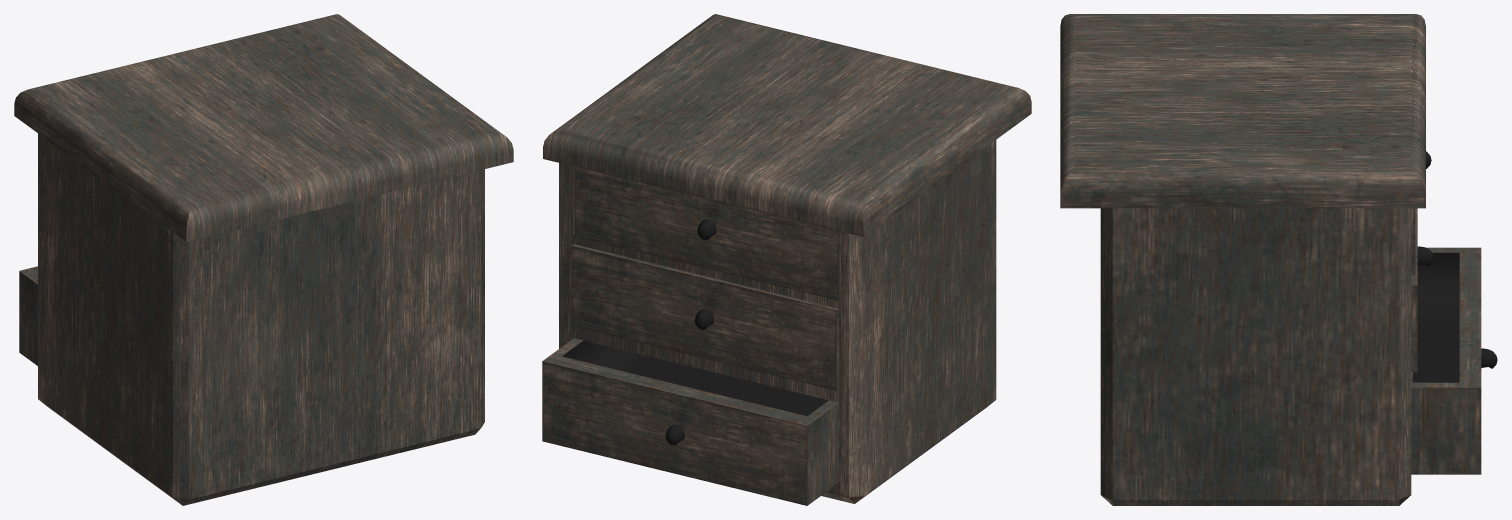
Rendered from Bedside Table.fbx.
3 renders of one model, left to right at view 1: azimuth 30°, elevation 25°; view 2: azimuth 150°, elevation 25°; view 3: azimuth 270°, elevation 25°, orthographic. The views are drawn at different scales.
Visible parts, largest first — view 1: polySurface146, polySurface149; view 2: polySurface146, polySurface149, polySurface150, polySurface151; view 3: polySurface146, polySurface149, polySurface150.
Boxes of the visible parts, x1=… form: polySurface146: x1=14, y1=14, x2=513, y2=505; polySurface149: x1=19, y1=266, x2=37, y2=365; polySurface146: x1=543, y1=14, x2=1031, y2=503; polySurface149: x1=542, y1=338, x2=839, y2=505; polySurface150: x1=571, y1=244, x2=839, y2=390; polySurface151: x1=574, y1=166, x2=840, y2=300; polySurface146: x1=1060, y1=14, x2=1425, y2=505; polySurface149: x1=1411, y1=247, x2=1497, y2=474; polySurface150: x1=1411, y1=208, x2=1433, y2=372.
Bounding box in the file's own units: 109 × 100 × 118.
